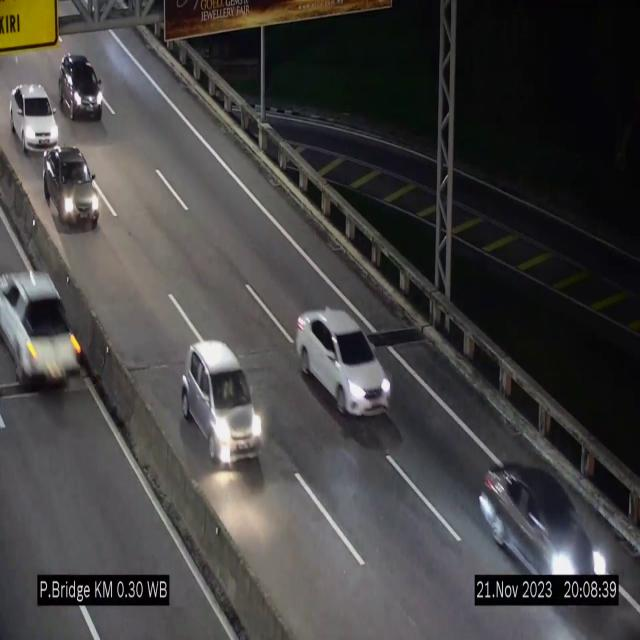Car: (477, 461, 607, 575), (0, 256, 90, 399), (181, 340, 265, 466), (295, 308, 391, 416), (43, 145, 99, 228), (11, 84, 59, 152), (59, 54, 103, 121)
